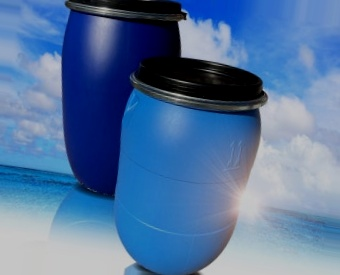plastic: (69, 14, 174, 190)
